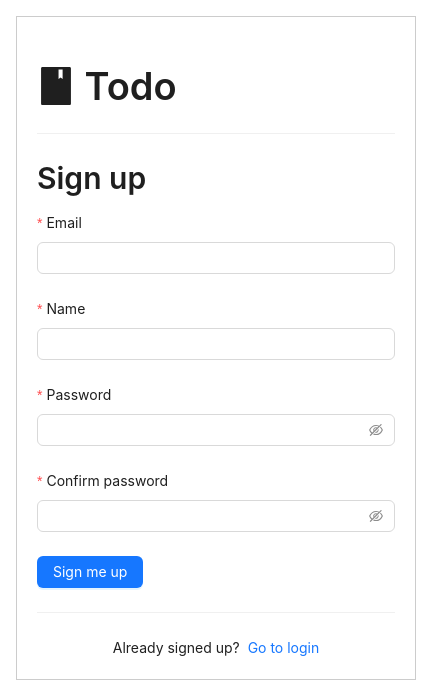
Test case: SignUp › sign up with empty from
Click the button "Sign me up": (90, 572) [37,556,143,588]
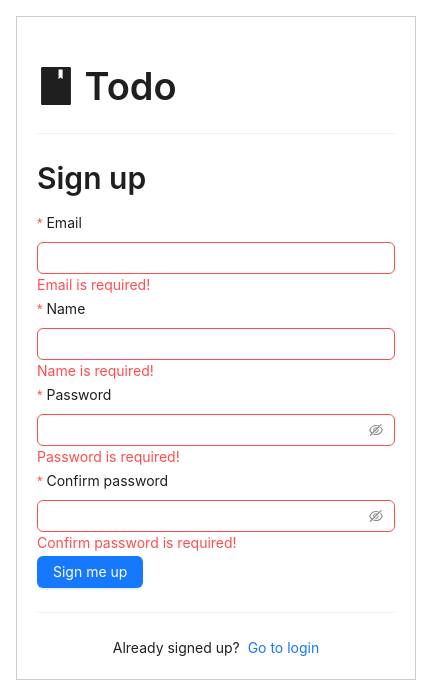
expect the text "Email is required!" is shown: met, box [37,276,150,293]
expect the text "Name is required!" is shown: met, box [37,362,154,379]
expect the text "Password is required!" is shown: met, box [37,448,180,465]
